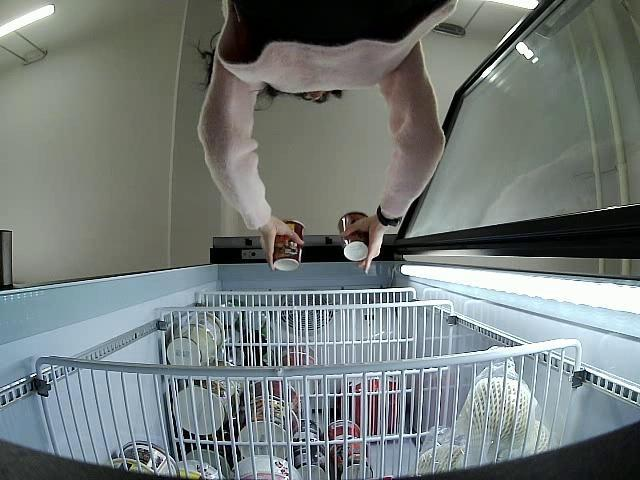06_nuguri_S: (272, 218, 306, 274), (338, 211, 369, 262)
